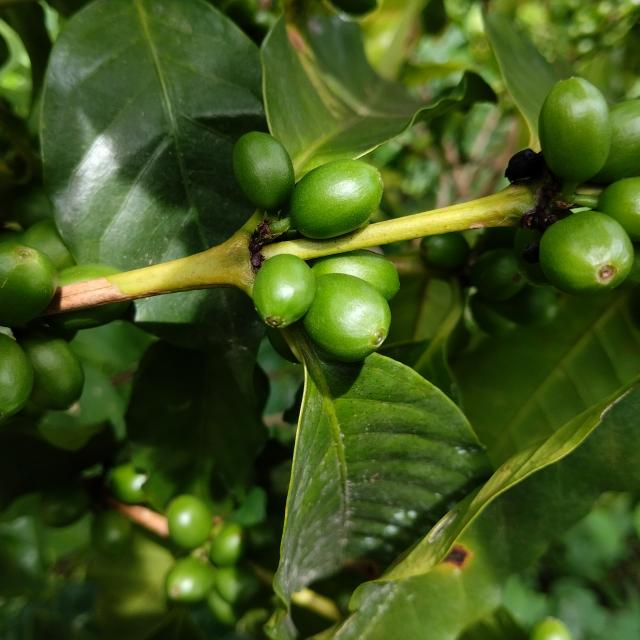green: (540, 210, 635, 296), (539, 76, 613, 182), (304, 273, 391, 362), (290, 159, 384, 238), (18, 332, 84, 411), (232, 131, 295, 212), (0, 242, 57, 327), (252, 254, 316, 328), (312, 249, 400, 301), (598, 176, 640, 242)
